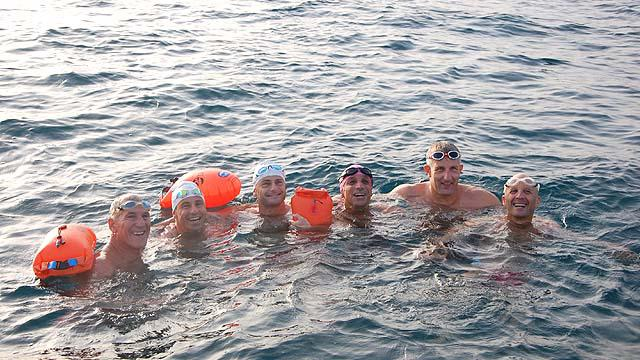swimmer: (468, 162, 564, 268), (386, 136, 502, 218), (94, 195, 152, 305), (150, 182, 204, 252), (242, 157, 292, 232), (324, 160, 382, 221)
